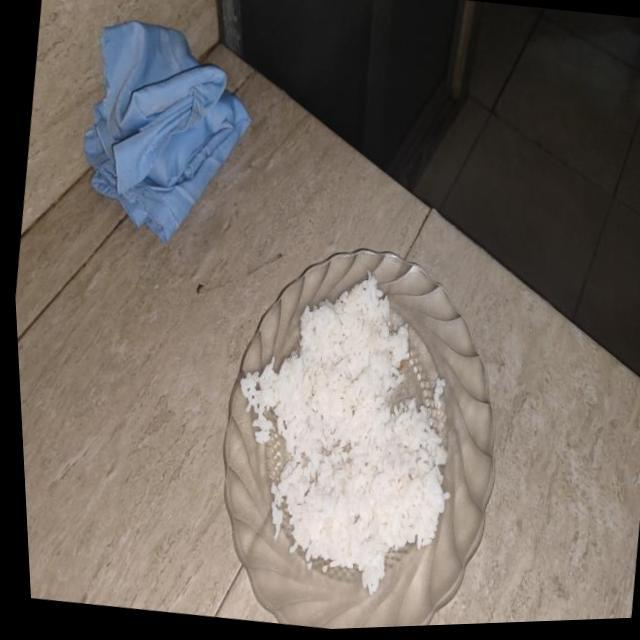nasi_putih: (241, 277, 450, 594)
